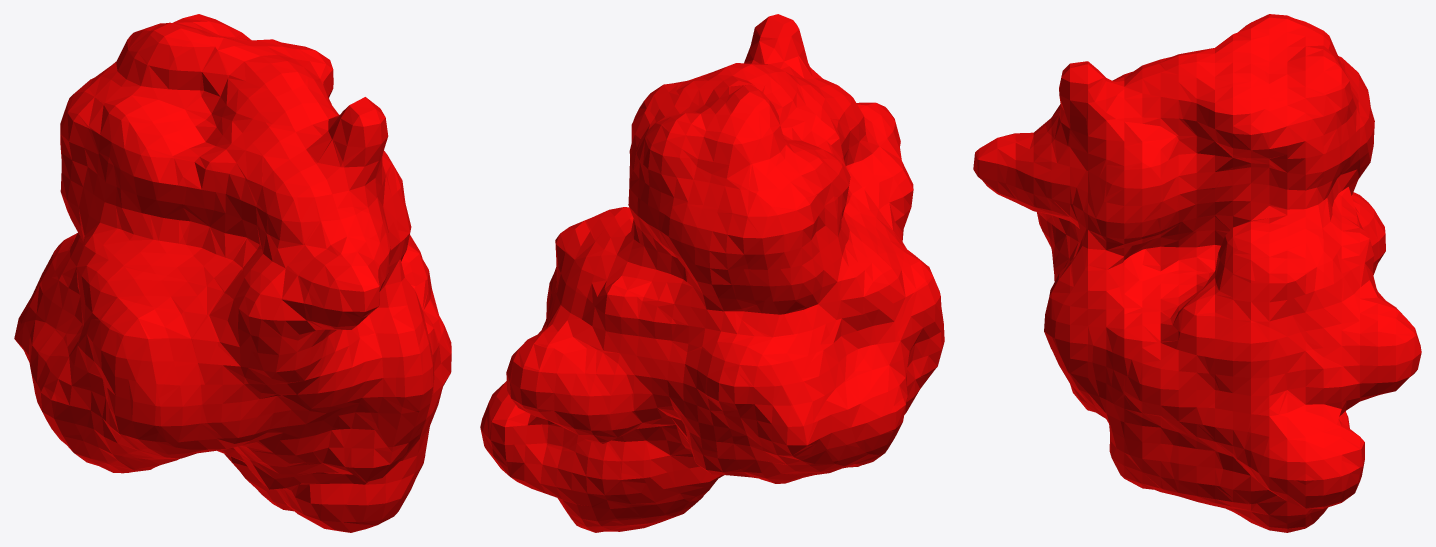
File: nrdE_coarse.dae
3 views of the same model, side by side, from view 1: azimuth 30°, elevation 25°; view 2: azimuth 150°, elevation 25°; view 3: azimuth 270°, elevation 25° (orthographic). The views are drawn at different scales.
Parts seen in each view (by area): view 1: nrdE; view 2: nrdE; view 3: nrdE.
Boxes of the visible parts, box(x1,y1,x2,y2) form: nrdE: box(14, 14, 451, 532); nrdE: box(480, 14, 944, 532); nrdE: box(973, 14, 1421, 532).
Bounding box in the file's own units: 70.11 × 82.38 × 74.74.
